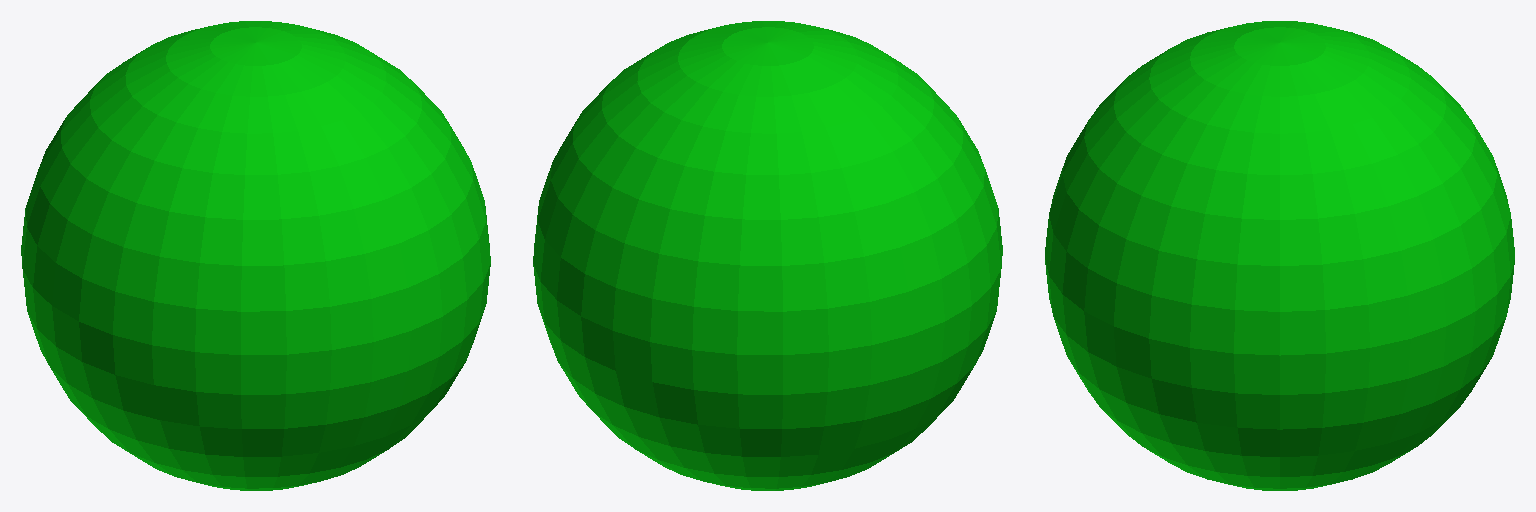
File: Ball.obj
The picture shows the model from 3 angles: view 1: azimuth 30°, elevation 25°; view 2: azimuth 150°, elevation 25°; view 3: azimuth 270°, elevation 25°; orthographic projection.
Parts seen in each view (by area): view 1: Sphere; view 2: Sphere; view 3: Sphere.
Part boxes in pixels (left/top/right/bottom): Sphere: left=21, top=21, right=490, bottom=490; Sphere: left=533, top=21, right=1002, bottom=490; Sphere: left=1045, top=21, right=1514, bottom=490.
Bounding box in the file's own units: 2 × 2 × 2.